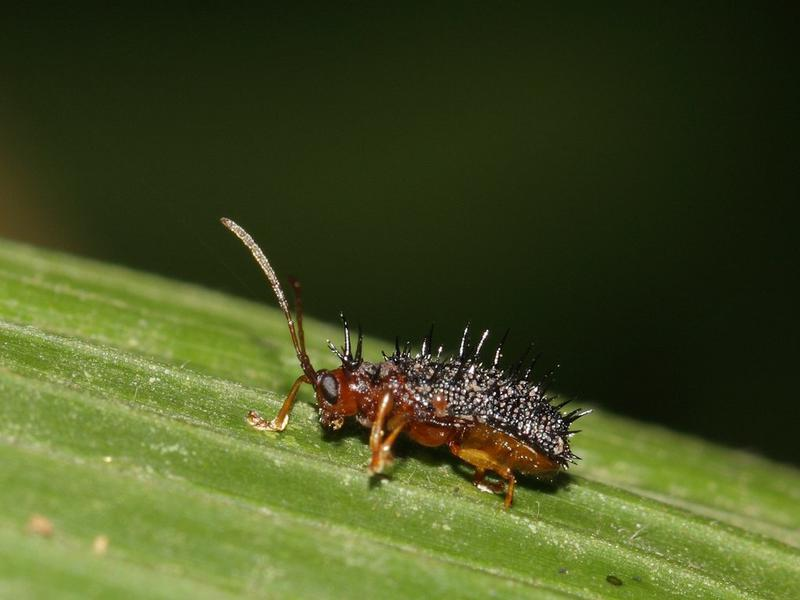Whorl_maggot: (264, 332, 594, 508)
